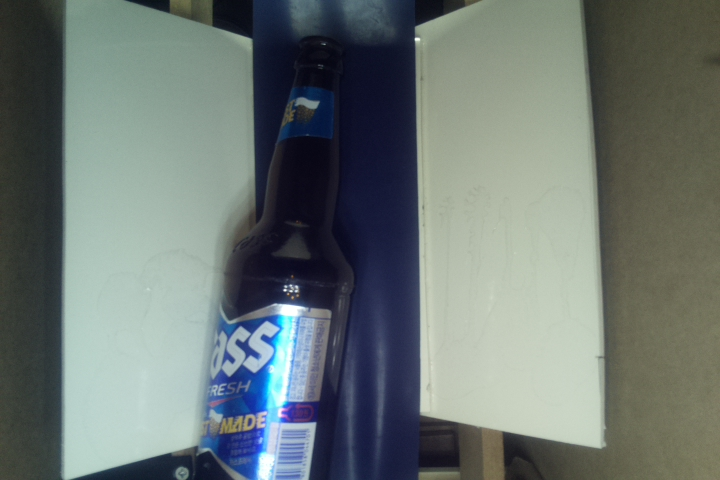makju: (189, 36, 367, 480)
